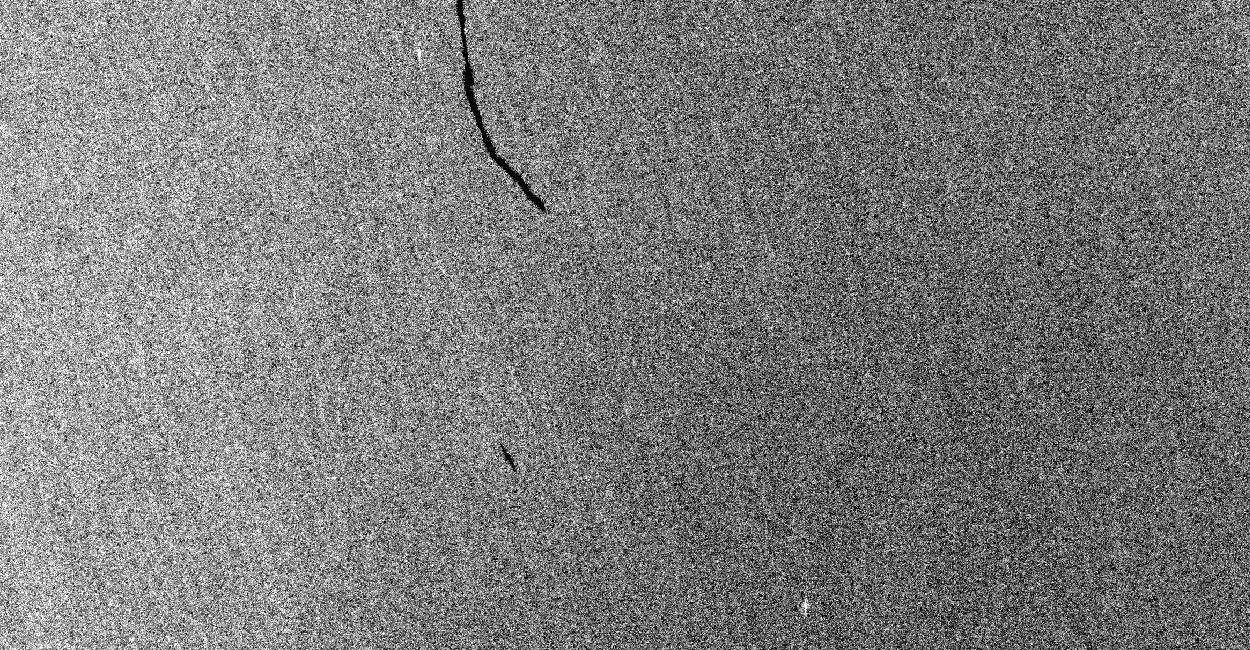Oil Spill: (454, 0, 546, 212), (499, 442, 516, 472)
